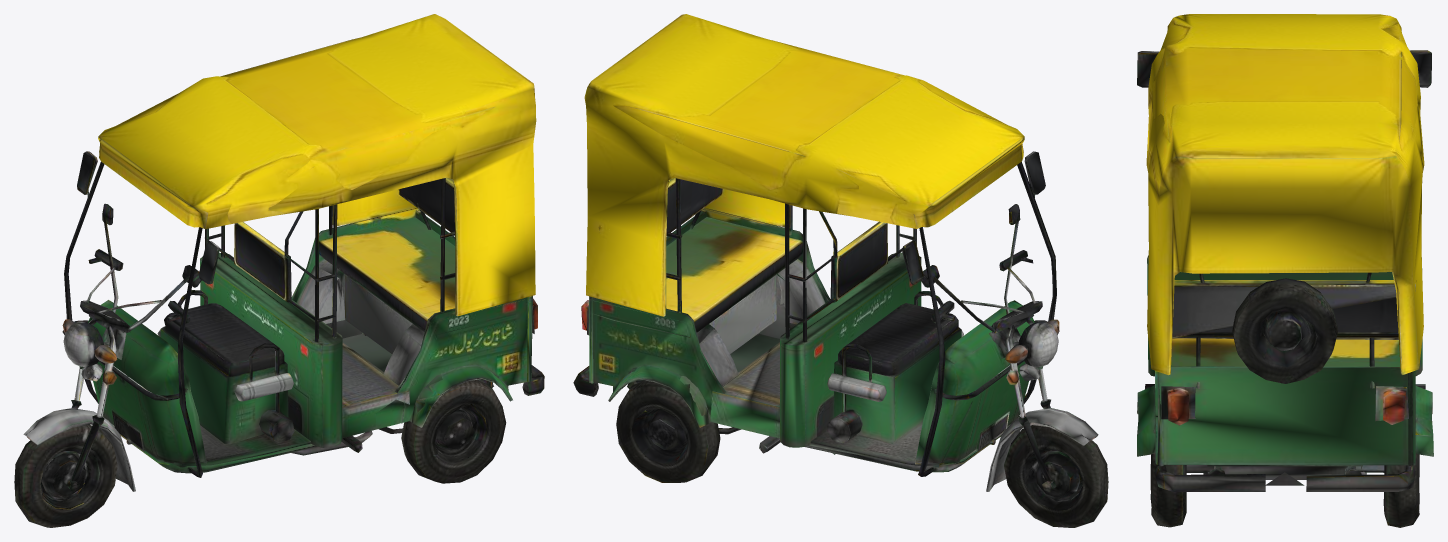
Rendered from traffic_rickshaw.glb.
3 views of the same model, side by side, from view 1: azimuth 30°, elevation 25°; view 2: azimuth 150°, elevation 25°; view 3: azimuth 270°, elevation 25° (orthographic). The views are drawn at different scales.
Visible parts, largest first — view 1: mesh_node; view 2: mesh_node; view 3: mesh_node.
Boxes of the visible parts, x1,y1,x2,y2 form: mesh_node: (14,14,544,527); mesh_node: (573,14,1108,527); mesh_node: (1137,14,1433,527).
Bounding box in the file's own units: 2.25 × 1.7 × 1.1.
Materials: 1 (1 with a texture image).
